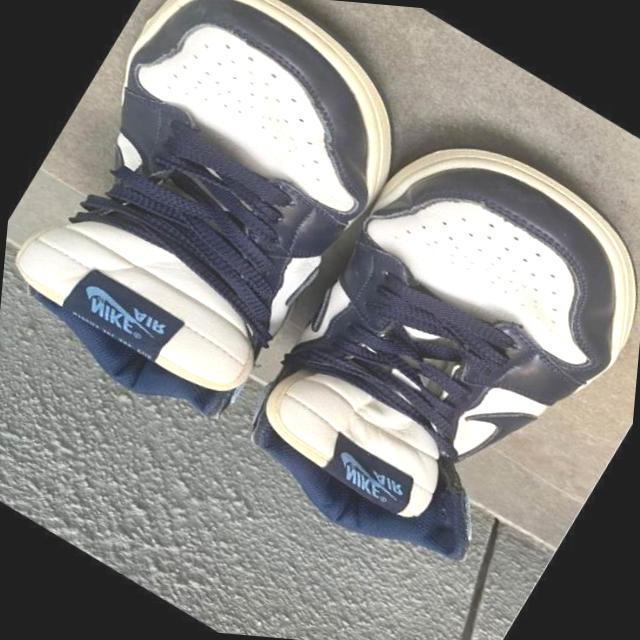nike_fake_jordan: (206, 83, 640, 620), (0, 0, 450, 465)
